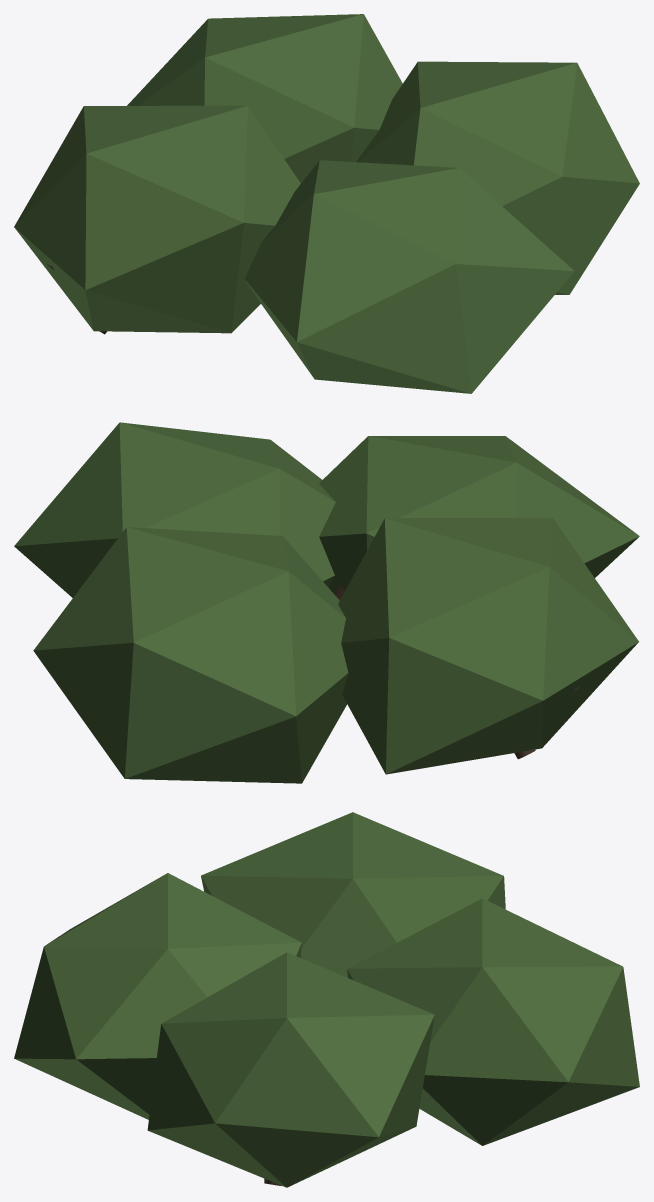
File: land-forest-12.glb
3 renders of one model, top to bottom at view 1: azimuth 30°, elevation 25°; view 2: azimuth 150°, elevation 25°; view 3: azimuth 270°, elevation 25°, orthographic. The views are drawn at different scales.
Visible parts, largest first — view 1: land.forest.12; view 2: land.forest.12; view 3: land.forest.12.
Boxes of the visible parts, x1=… form: land.forest.12: x1=14, y1=14, x2=639, y2=393; land.forest.12: x1=14, y1=422, x2=639, y2=783; land.forest.12: x1=14, y1=812, x2=639, y2=1187.
Size of the model in its own units: 2.23 by 0.8188 by 2.3.
